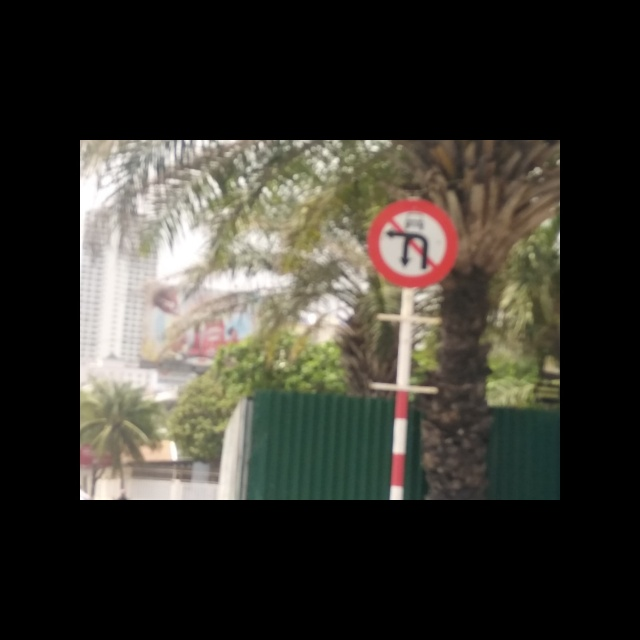Cấm xe ô tô quay đầu và rẽ trái: (369, 201, 458, 288)
